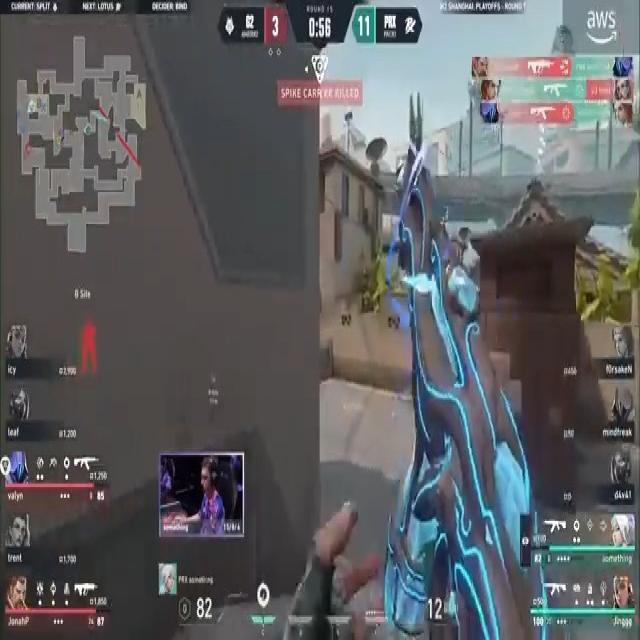enemy behind wall: (78, 316, 100, 378)
